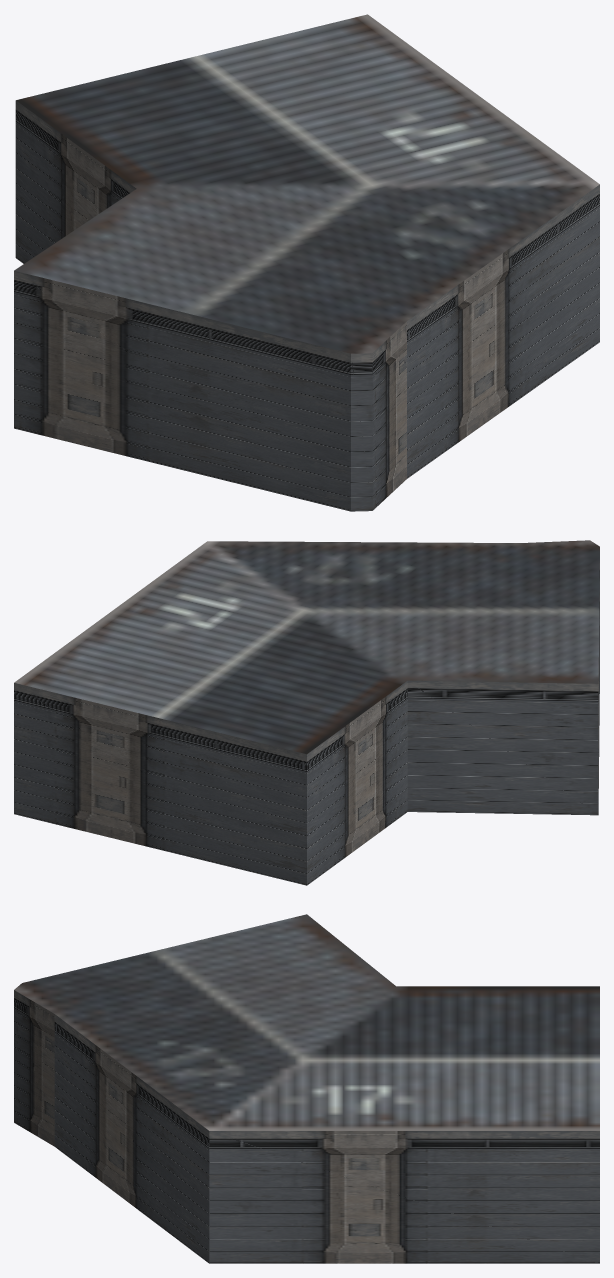
Rendered from hangar_light_17.glb.
3 renders of one model, top to bottom at view 1: azimuth 30°, elevation 25°; view 2: azimuth 150°, elevation 25°; view 3: azimuth 270°, elevation 25°, orthographic. The views are drawn at different scales.
Parts seen in each view (by area): view 1: buildings/saxarba/hangar_light/hangar_light_17; view 2: buildings/saxarba/hangar_light/hangar_light_17; view 3: buildings/saxarba/hangar_light/hangar_light_17.
Boxes of the visible parts, box(x1,y1,x2,y2) form: buildings/saxarba/hangar_light/hangar_light_17: box(14, 14, 599, 511); buildings/saxarba/hangar_light/hangar_light_17: box(14, 540, 599, 885); buildings/saxarba/hangar_light/hangar_light_17: box(14, 914, 599, 1263).
Size of the model in its own units: 63 by 18 by 72.
